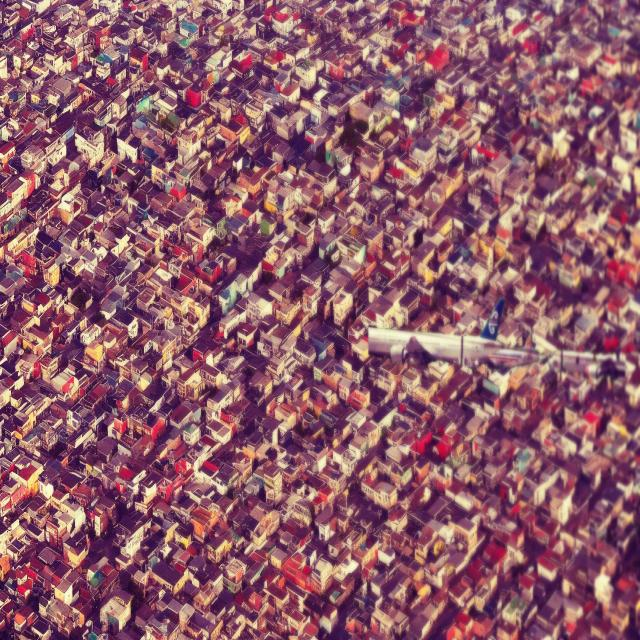airplane: (367, 296, 540, 372)
